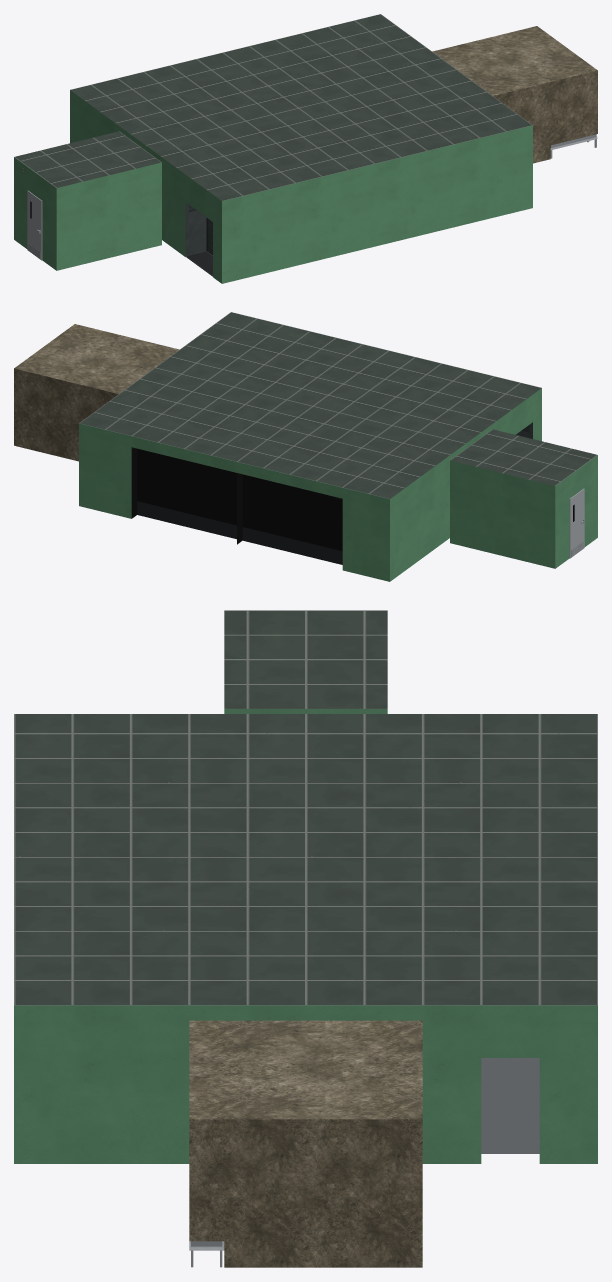
Rendered from control_room.glb.
3 renders of one model, top to bottom at view 1: azimuth 30°, elevation 25°; view 2: azimuth 150°, elevation 25°; view 3: azimuth 270°, elevation 25°, orthographic. The views are drawn at different scales.
Visible parts, largest first — view 1: Ceiling_Server, Wall_Green, Ceiling_Concrete, Wall_Cell, Server_Body, DoorLeaf_registrar_hall, Paint_Dark; view 2: Ceiling_Server, Wall_Green, Plastic_Black, Ceiling_Concrete, Wall_Cell, Paint_Dark, DoorLeaf_registrar_hall; view 3: Ceiling_Server, Wall_Green, Wall_Cell, Ceiling_Concrete, Breaker_Paint.
Part boxes in pixels (x1=…): Ceiling_Server: x1=14, y1=14, x2=532, y2=200; Wall_Green: x1=14, y1=90, x2=532, y2=283; Ceiling_Concrete: x1=432, y1=26, x2=597, y2=95; Wall_Cell: x1=493, y1=70, x2=597, y2=163; Server_Body: x1=185, y1=202, x2=212, y2=275; DoorLeaf_registrar_hall: x1=27, y1=190, x2=42, y2=260; Paint_Dark: x1=186, y1=251, x2=212, y2=276; Ceiling_Server: x1=79, y1=312, x2=597, y2=498; Wall_Green: x1=79, y1=388, x2=597, y2=581; Plastic_Black: x1=131, y1=447, x2=342, y2=551; Ceiling_Concrete: x1=14, y1=324, x2=179, y2=393; Wall_Cell: x1=14, y1=368, x2=118, y2=461; Paint_Dark: x1=137, y1=501, x2=342, y2=564; DoorLeaf_registrar_hall: x1=569, y1=488, x2=584, y2=558; Ceiling_Server: x1=14, y1=610, x2=597, y2=1005; Wall_Green: x1=14, y1=709, x2=597, y2=1163; Wall_Cell: x1=189, y1=1119, x2=422, y2=1267; Ceiling_Concrete: x1=189, y1=1020, x2=422, y2=1119; Breaker_Paint: x1=481, y1=1058, x2=539, y2=1153.
Bounding box in the file's own units: 20.27 × 3 × 10.
26 materials, 10 textured.
